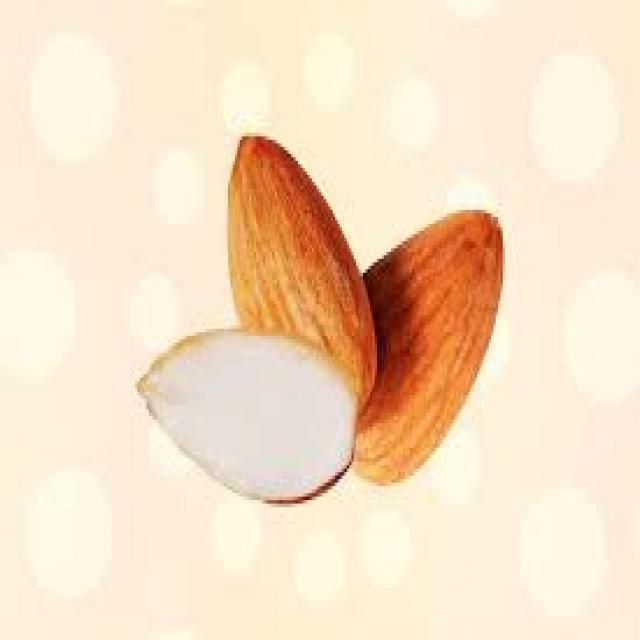almond: (222, 130, 377, 432), (348, 210, 512, 483)
